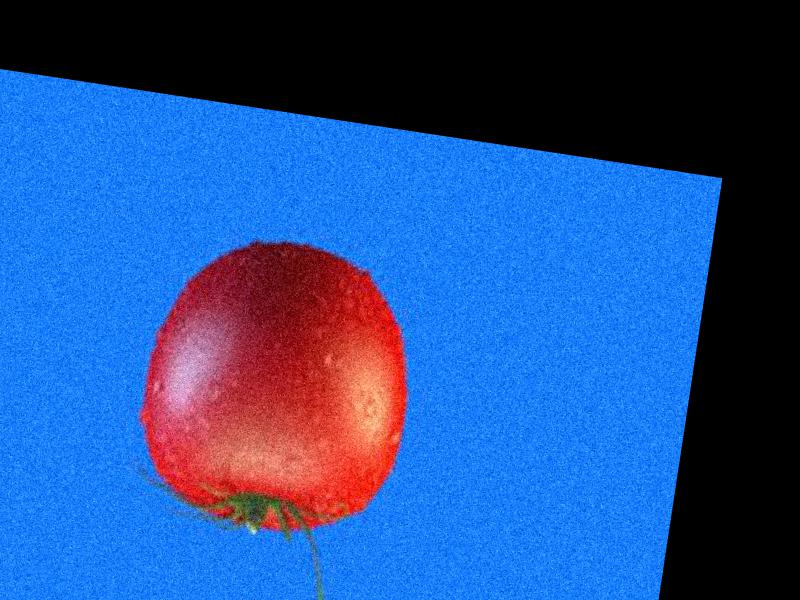Tomato: (124, 223, 428, 549)
